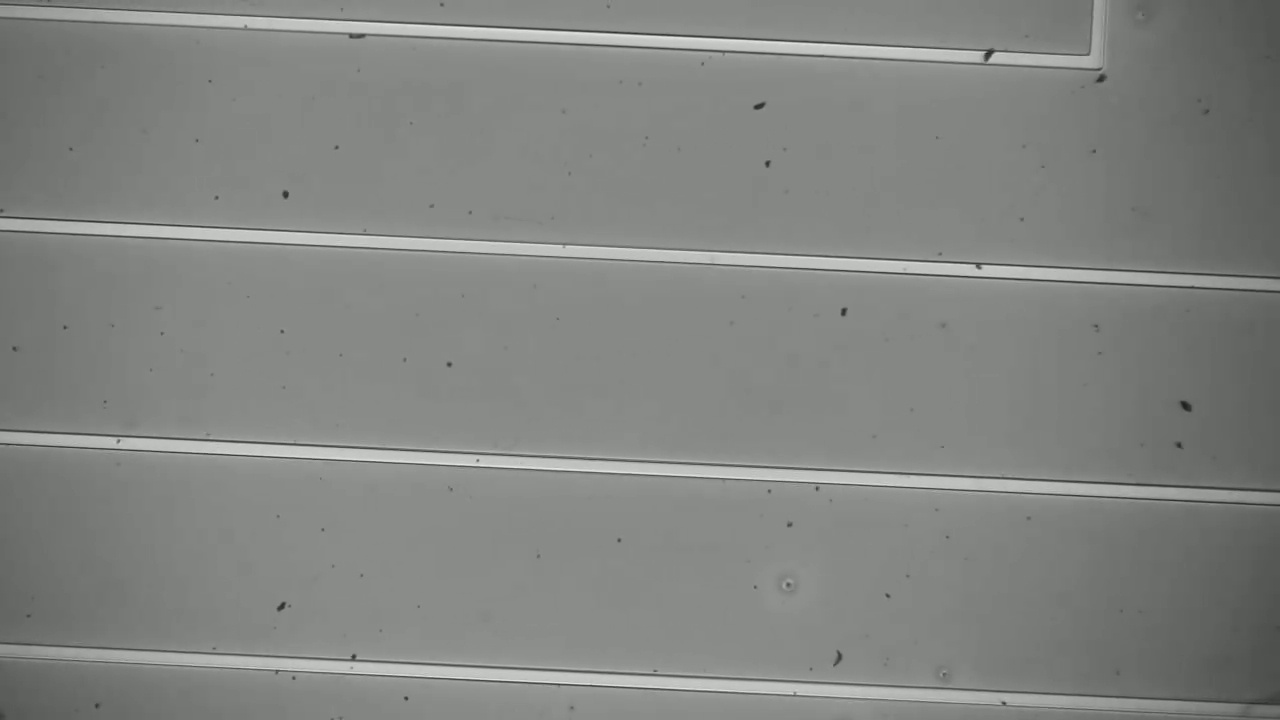stains_enbedded: (977, 38, 1000, 75)
